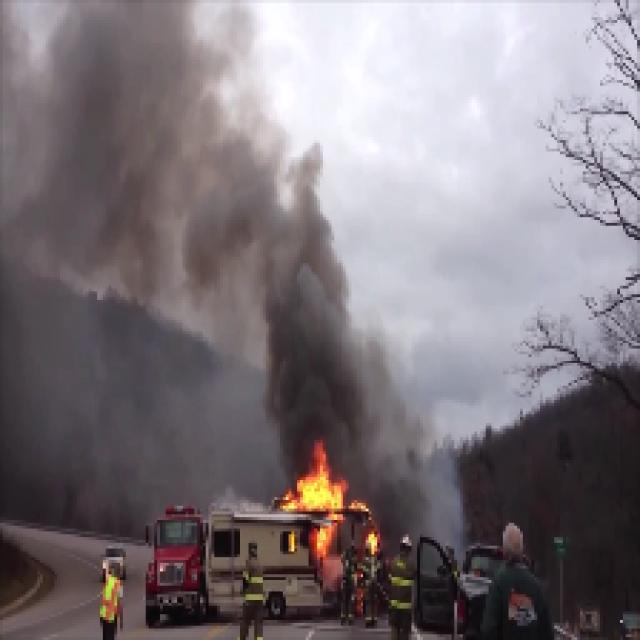fire: (290, 461, 376, 559)
smoke: (1, 2, 248, 428), (257, 176, 358, 437)
